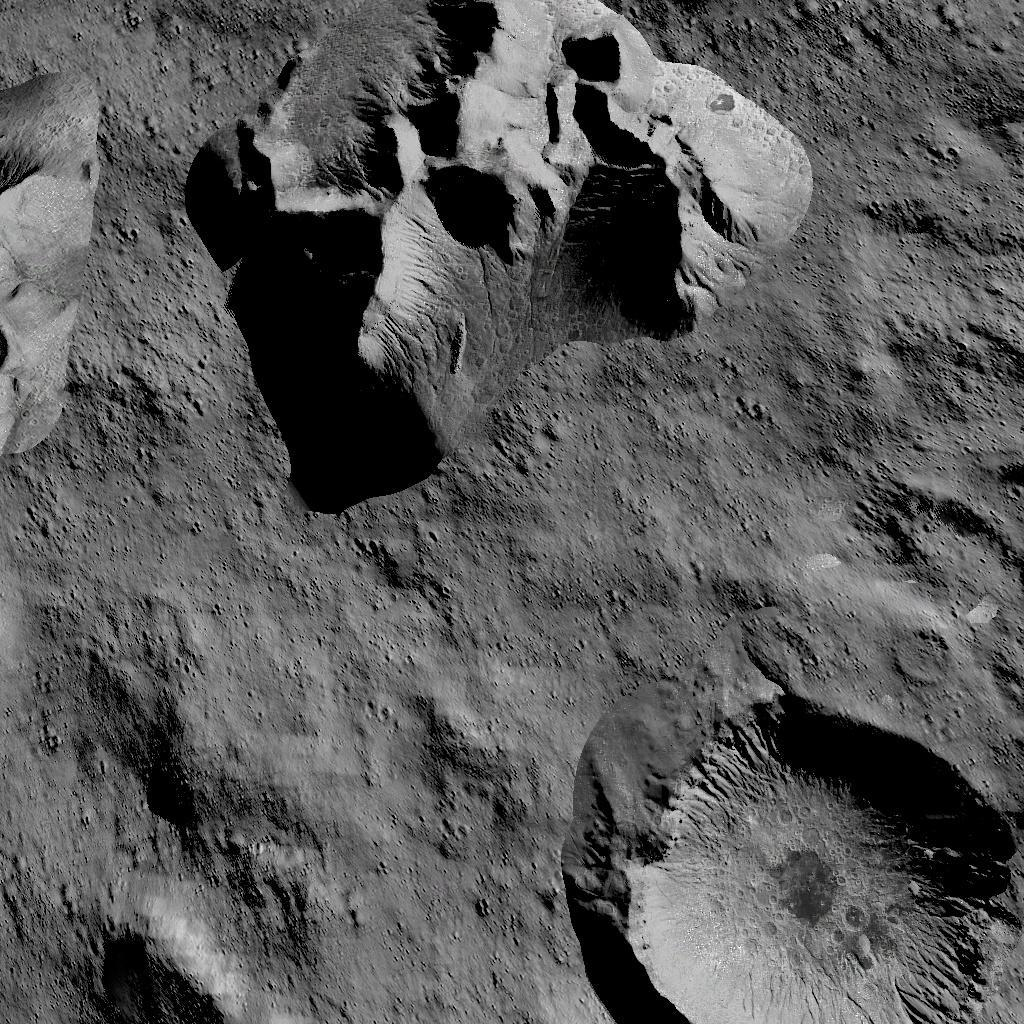Boulders: (180, 0, 826, 512), (75, 680, 318, 880), (0, 52, 100, 462)
Crater: (552, 635, 1024, 1024), (0, 911, 322, 1018)
Plan surface: (29, 524, 537, 662), (348, 683, 536, 1024)
